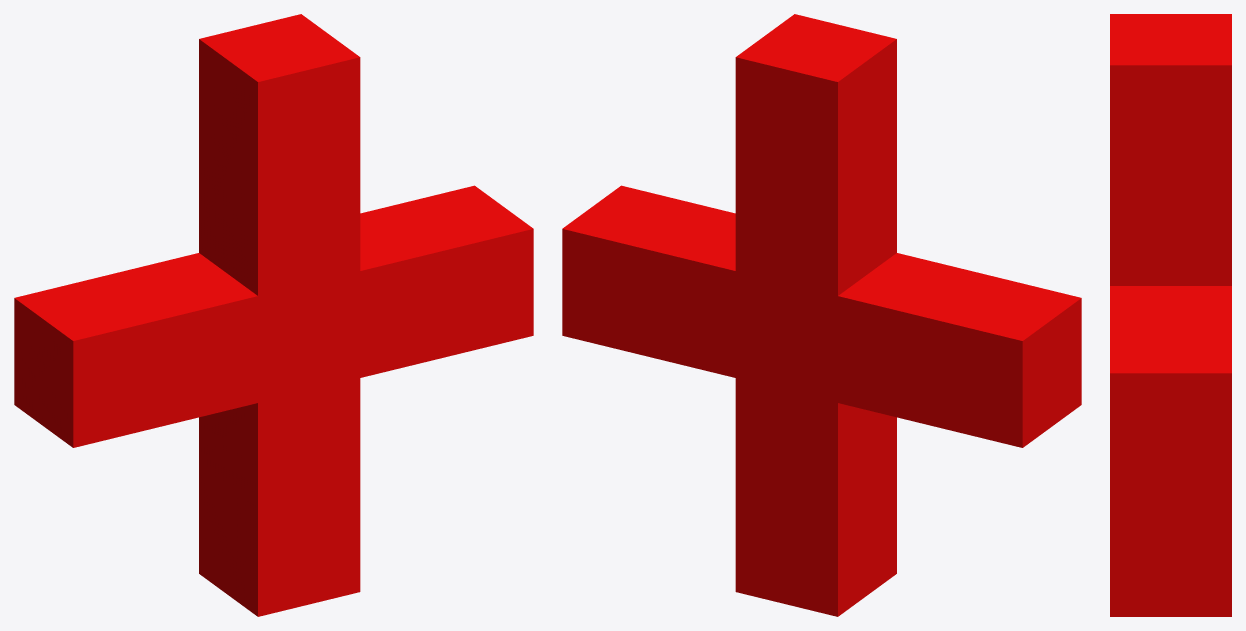
Rendered from HealthPowerup.obj.
3 views of the same model, side by side, from view 1: azimuth 30°, elevation 25°; view 2: azimuth 150°, elevation 25°; view 3: azimuth 270°, elevation 25° (orthographic). The views are drawn at different scales.
Visible parts, largest first — view 1: Cube; view 2: Cube; view 3: Cube.
Boxes of the visible parts, x1,y1,x2,y2 form: Cube: (14,14,533,616); Cube: (562,14,1081,616); Cube: (1110,14,1231,616).
Size of the model in its own units: 9 by 9.99 by 2.
